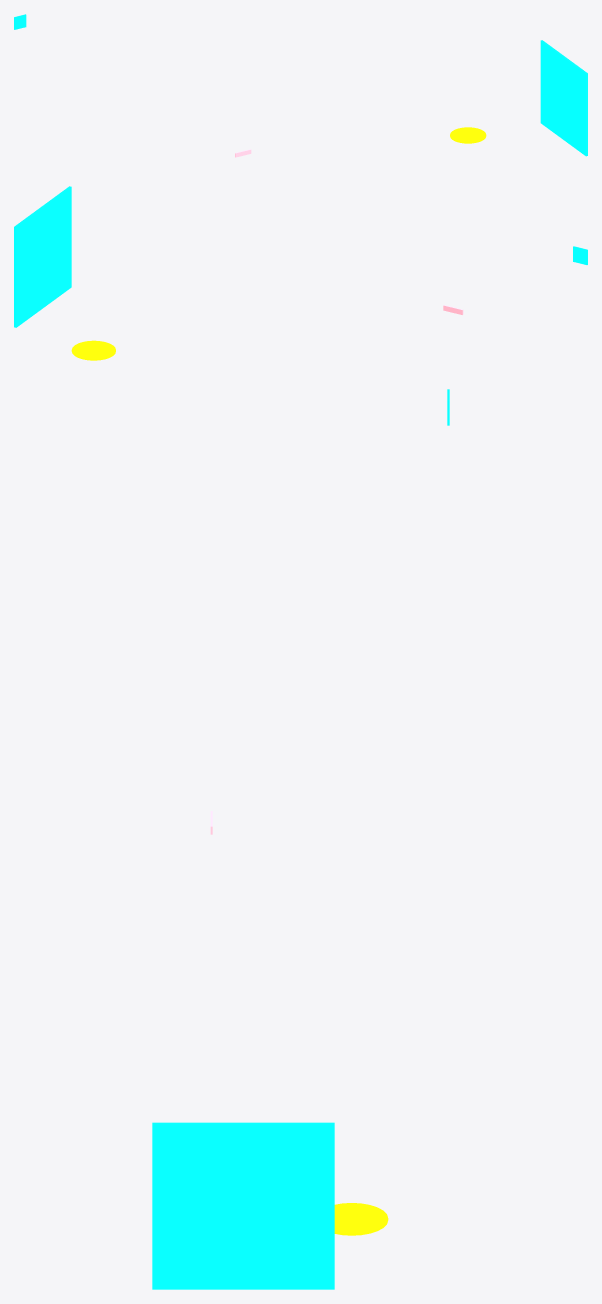
Rendered from on-demand-projects.glb.
3 views of the same model, one above another, from view 1: azimuth 30°, elevation 25°; view 2: azimuth 150°, elevation 25°; view 3: azimuth 270°, elevation 25° (orthographic). The views are drawn at different scales.
Visible parts, largest first — view 1: Helios_Network_Path, Zenith_Energy_Path; view 2: Helios_Network_Path, Zenith_Energy_Path; view 3: Helios_Network_Path, Zenith_Energy_Path.
Part boxes in pixels (bbox=[...]): Helios_Network_Path: bbox=[540, 40, 587, 156]; Zenith_Energy_Path: bbox=[450, 127, 486, 143]; Helios_Network_Path: bbox=[14, 186, 71, 327]; Zenith_Energy_Path: bbox=[71, 340, 115, 360]; Helios_Network_Path: bbox=[152, 1122, 334, 1289]; Zenith_Energy_Path: bbox=[334, 1203, 388, 1235].
Bounding box in the file's own units: 2.53 × 1 × 0.6525.
